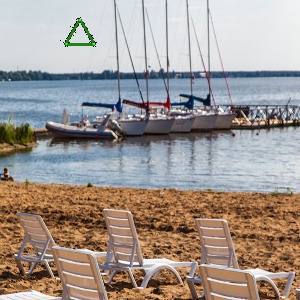triangle: (60, 14, 99, 50)
